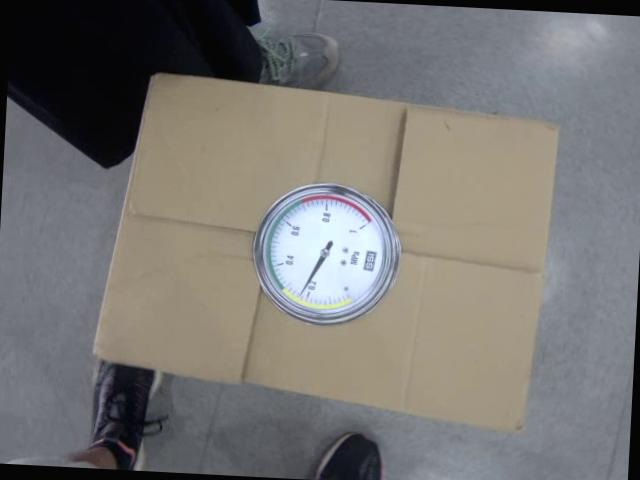Dashboard: (248, 178, 406, 331)
ssi: (362, 248, 378, 274)
